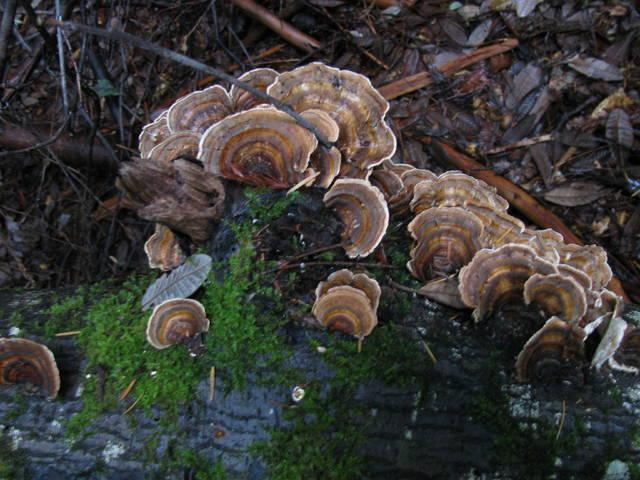Non-edible Mushroom: (125, 60, 636, 386), (310, 267, 382, 351), (144, 296, 210, 351)
